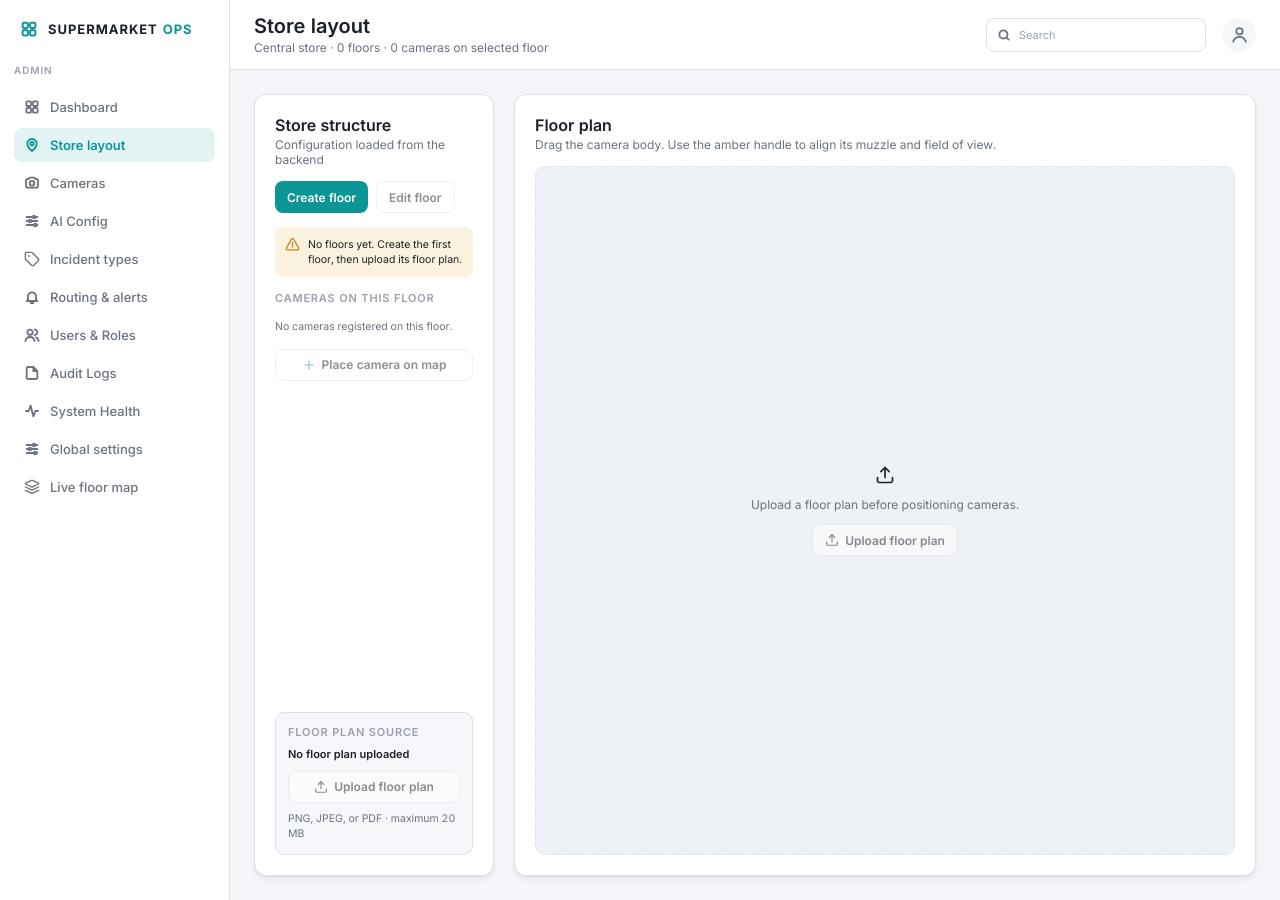
Test: StoreLayout › creates the first floor, selects it and offers floor-plan upload
Check: the text "No floors yet. Create the first floor, then upload its floor plan." is shown, box x1=308 y1=237 x2=463 y2=267
Click the button "Create floor" at (322, 197), box x1=275 y1=181 x2=368 y2=213
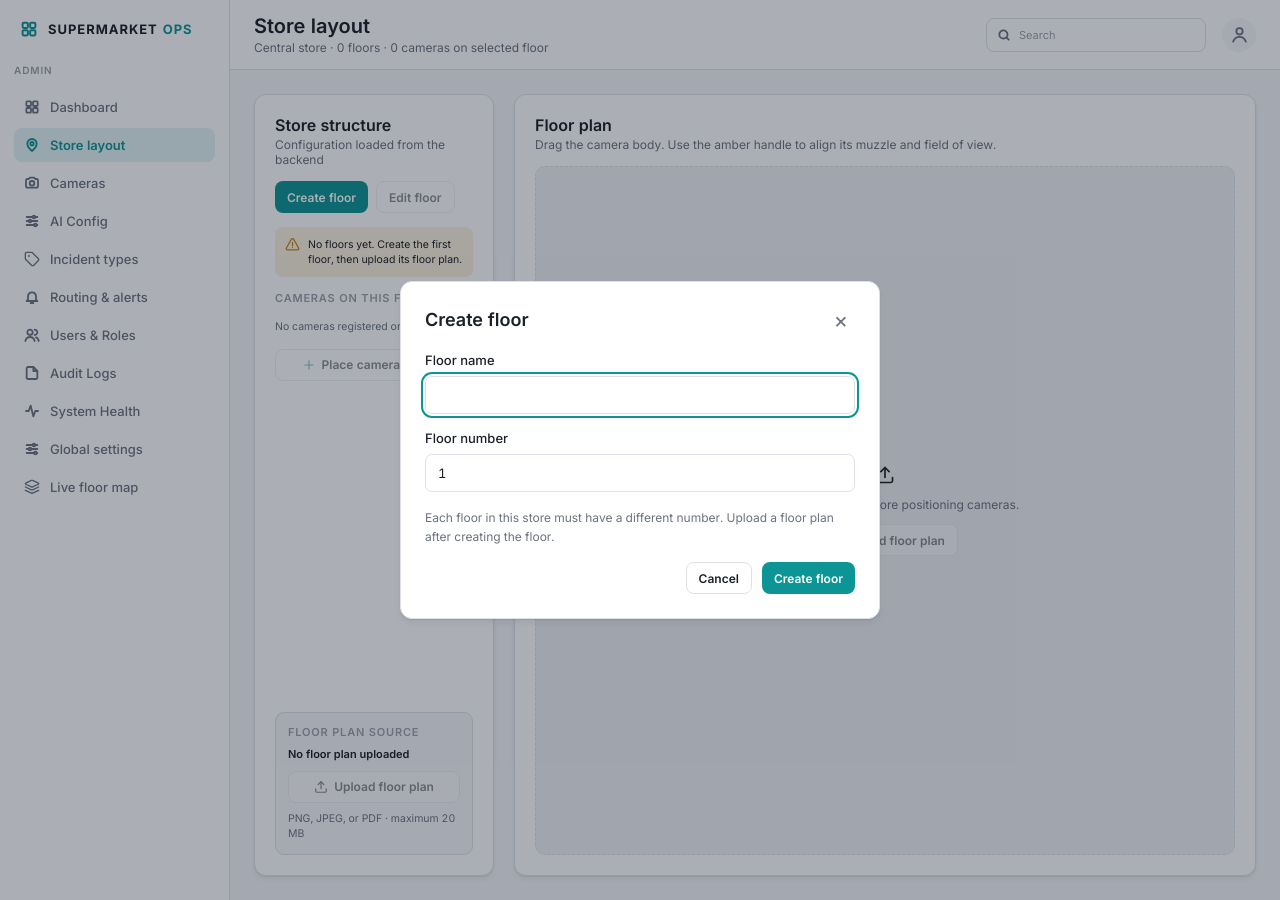
Type "Upper floor" into the field labelled "Floor name" at (640, 395), box x1=425 y1=376 x2=855 y2=414
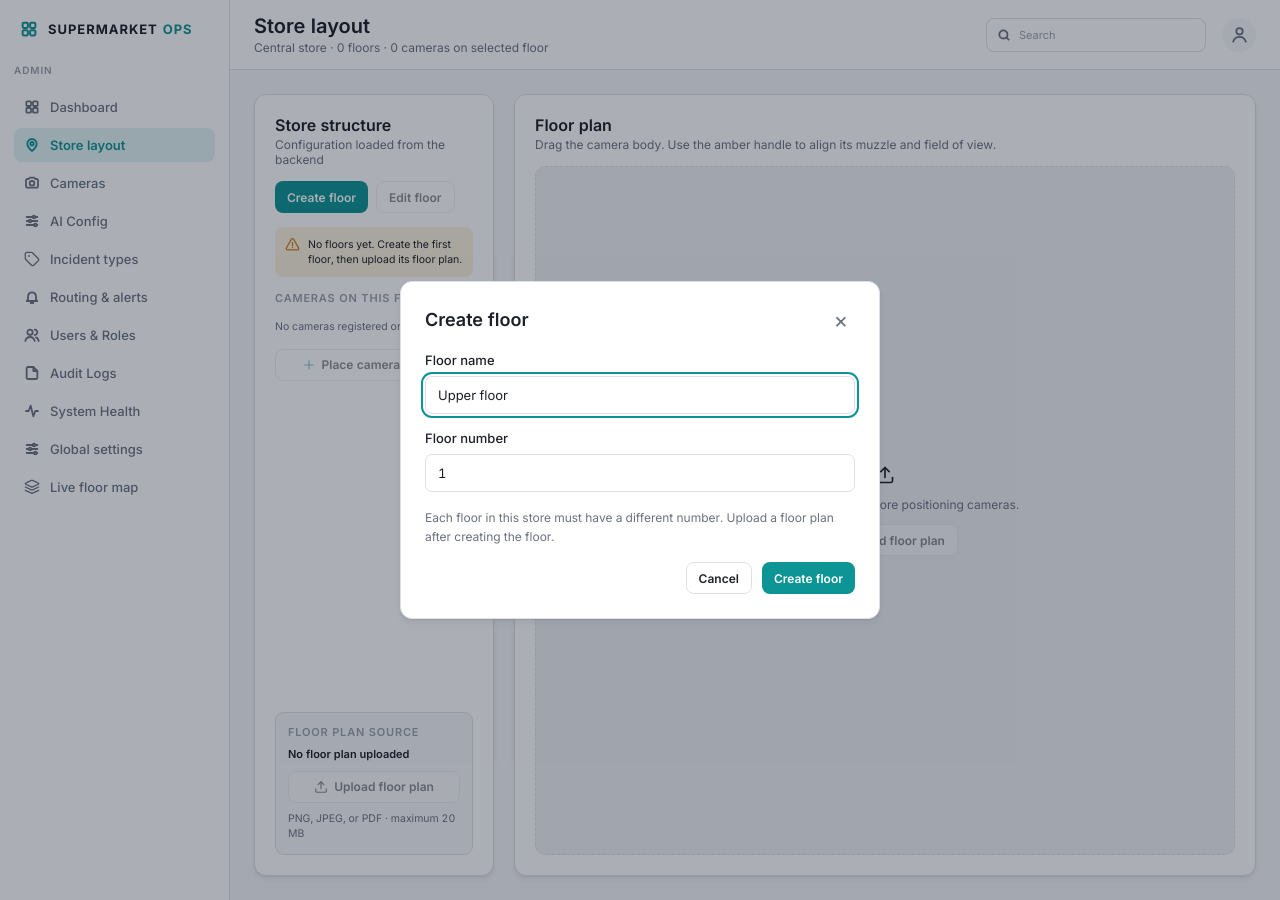
Replace the text in the number field labelled "Floor number" with "2" at (640, 473), box x1=425 y1=454 x2=855 y2=492
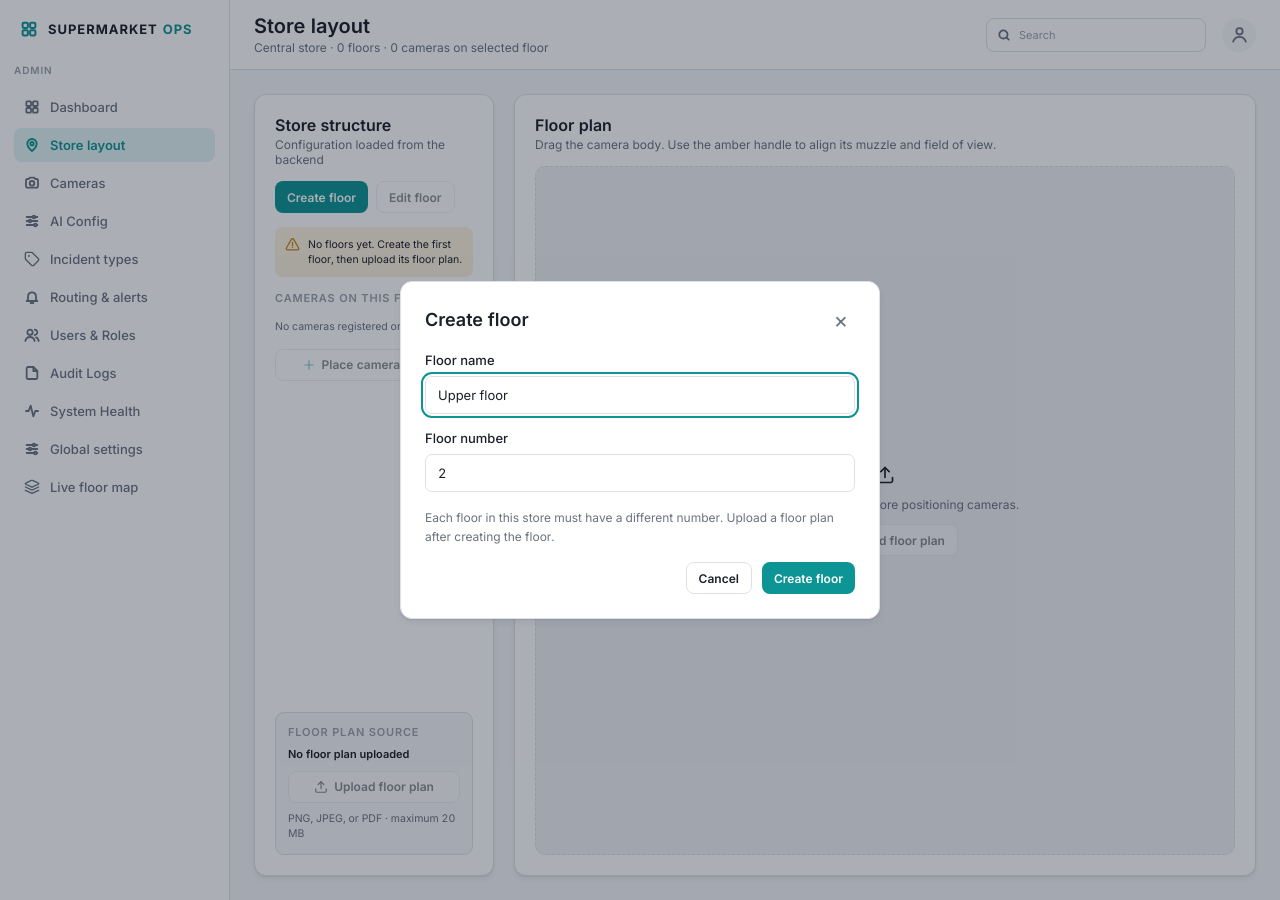
Click the button "Create floor" at (808, 578), box x1=762 y1=562 x2=855 y2=594
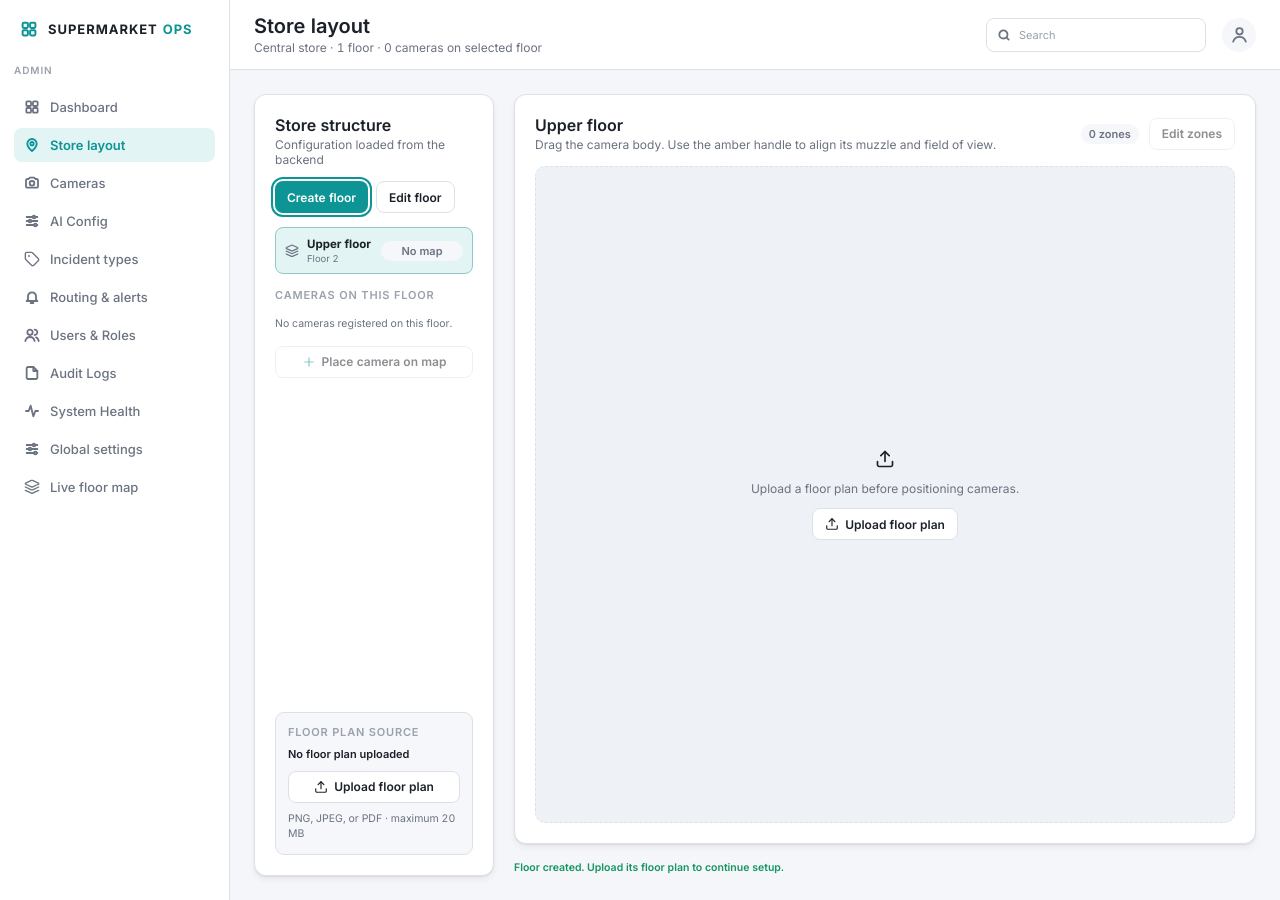
Check: the text "Floor created. Upload its floor plan to continue setup." is shown, box x1=514 y1=861 x2=784 y2=874
Check: the dialog is gone
Check: the heading "Upper floor" is shown, box x1=535 y1=115 x2=623 y2=135
